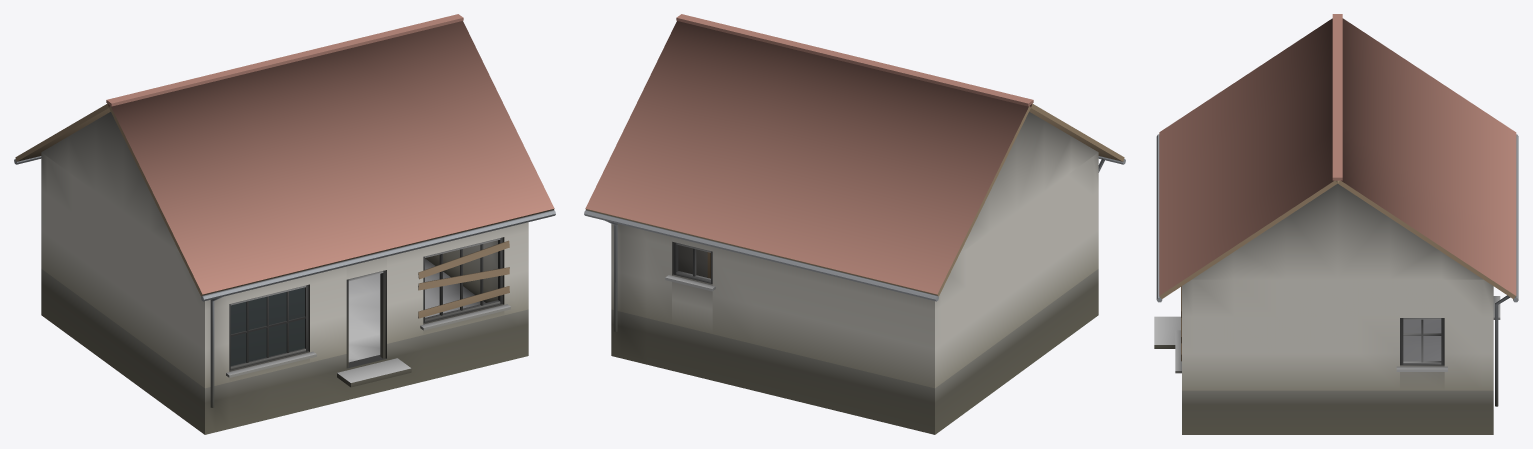
Rendered from pharmacy.glb.
3 renders of one model, left to right at view 1: azimuth 30°, elevation 25°; view 2: azimuth 150°, elevation 25°; view 3: azimuth 270°, elevation 25°, orthographic. The views are drawn at different scales.
Parts seen in each view (by area): view 1: pharmacy; view 2: pharmacy; view 3: pharmacy.
Boxes of the visible parts, box(x1,y1,x2,y2) form: pharmacy: box(14, 14, 555, 434); pharmacy: box(584, 14, 1125, 434); pharmacy: box(1154, 14, 1518, 434).
Size of the model in its own units: 8.7 by 6.54 by 8.19.
